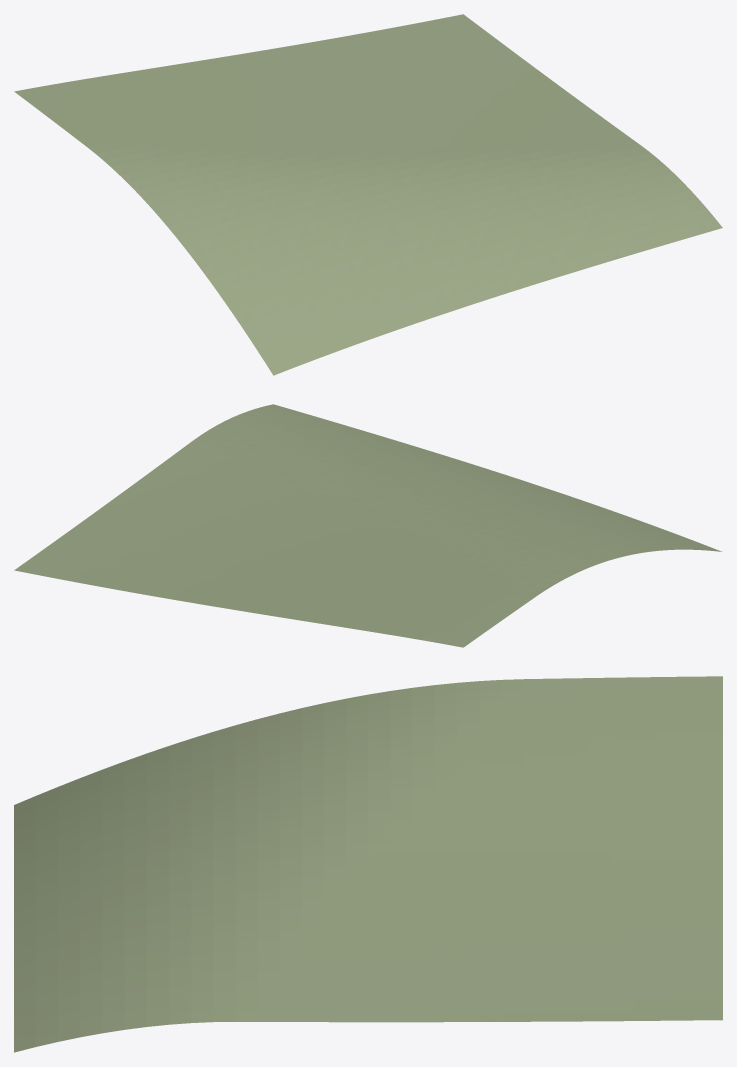
File: expanse-16-8.glb
The picture shows the model from 3 angles, top to bottom: view 1: azimuth 30°, elevation 25°; view 2: azimuth 150°, elevation 25°; view 3: azimuth 270°, elevation 25°; orthographic projection. The views are drawn at different scales.
Visible parts, largest first — view 1: expanse-16-8; view 2: expanse-16-8; view 3: expanse-16-8.
Boxes of the visible parts, <box> form: expanse-16-8: <box>14,14,722,375</box>; expanse-16-8: <box>14,404,721,647</box>; expanse-16-8: <box>14,676,722,1052</box>.
Size of the model in its own units: 256 by 51.3 by 256.
